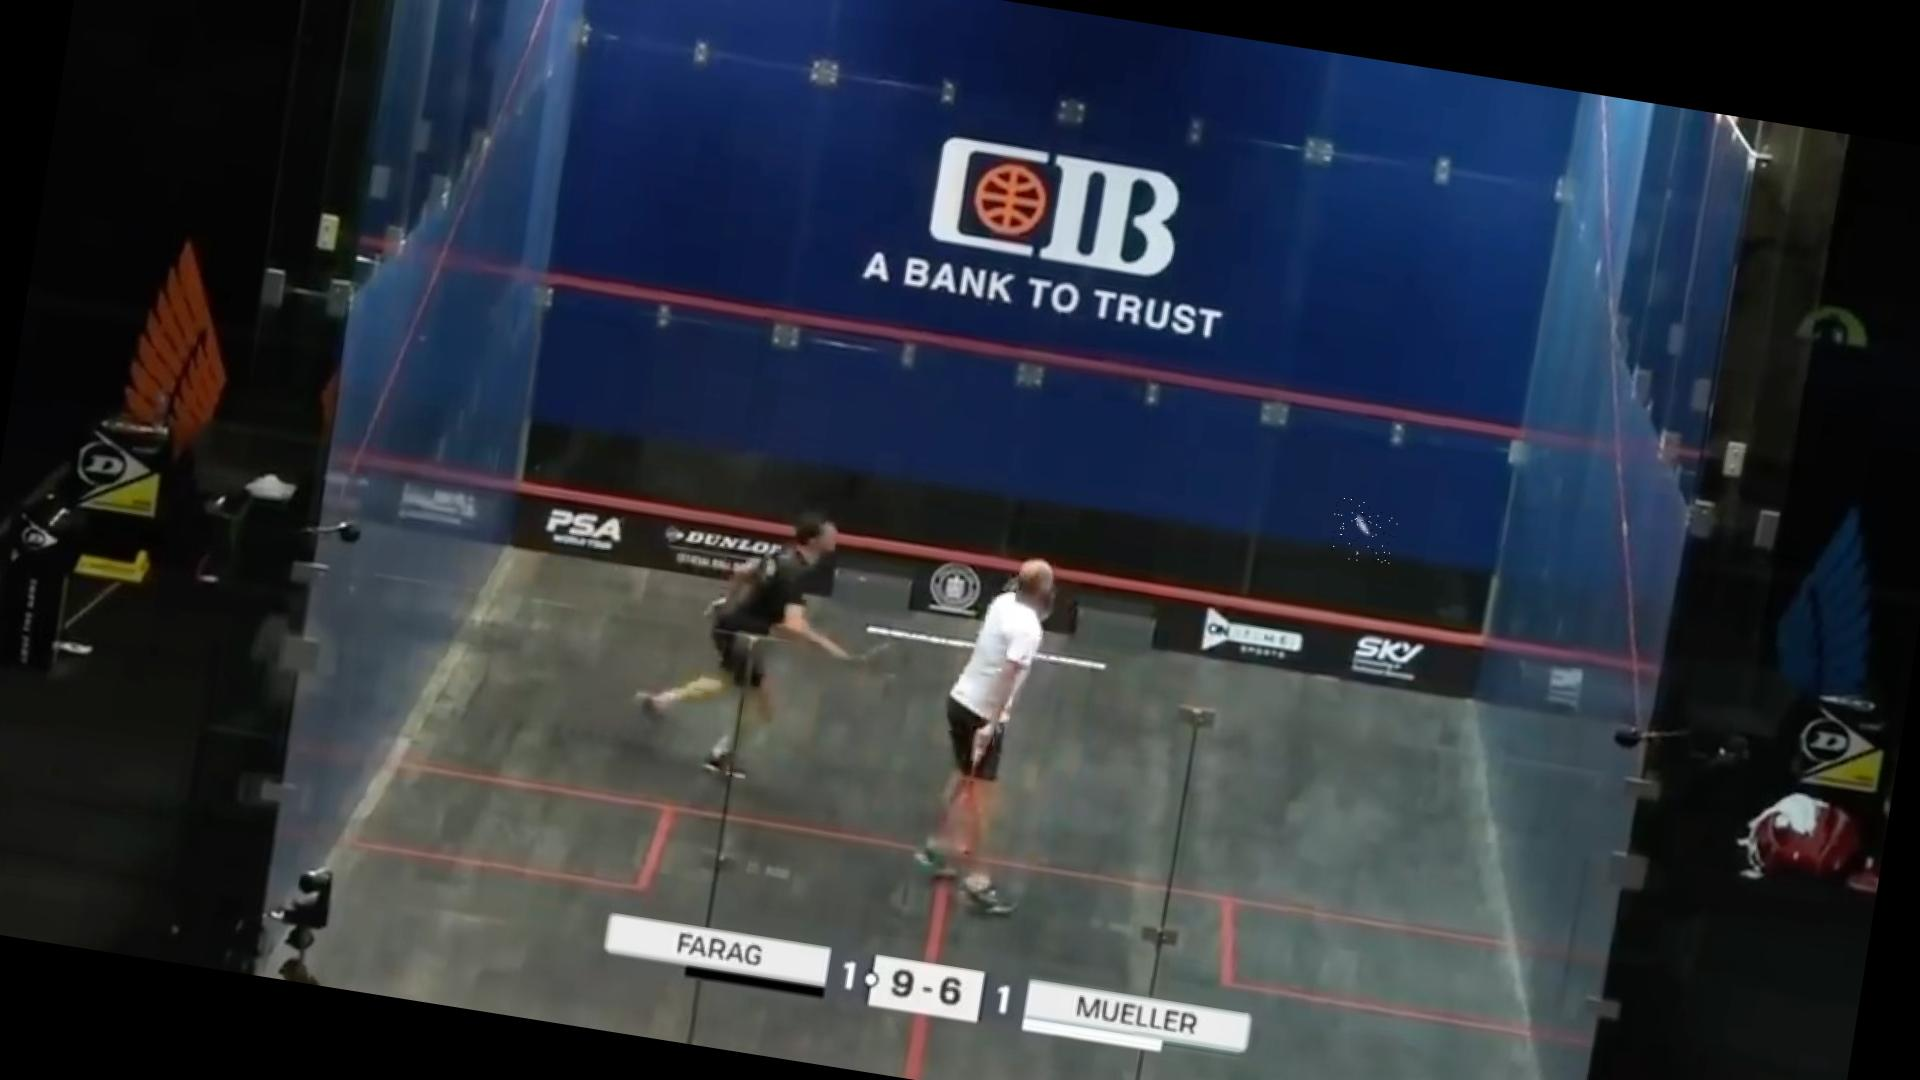Squash-Ball: (1327, 496, 1400, 566)
